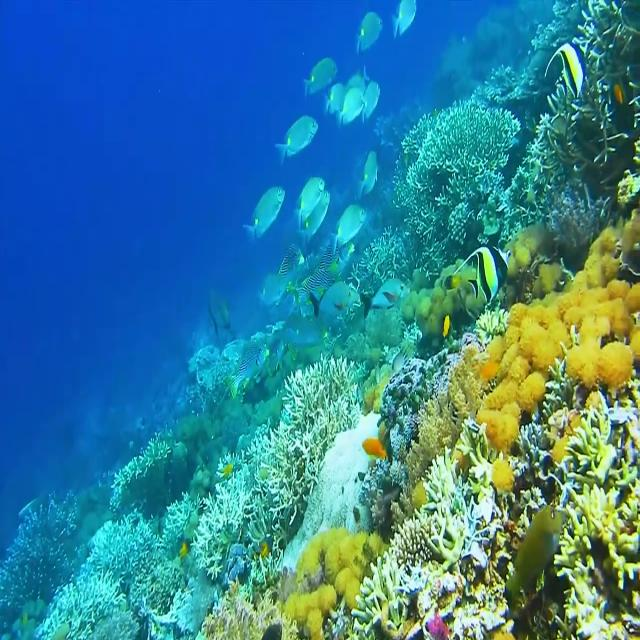fish: (494, 491, 582, 606), (447, 237, 512, 312), (534, 25, 590, 101), (350, 266, 411, 334), (304, 270, 366, 331), (240, 166, 283, 250), (278, 162, 328, 228), (268, 105, 330, 158), (326, 188, 378, 250), (255, 251, 300, 317), (293, 188, 337, 244), (350, 8, 391, 62), (350, 141, 389, 195), (299, 52, 341, 102), (335, 76, 366, 132), (385, 0, 424, 44), (362, 62, 387, 120), (318, 70, 342, 114)
